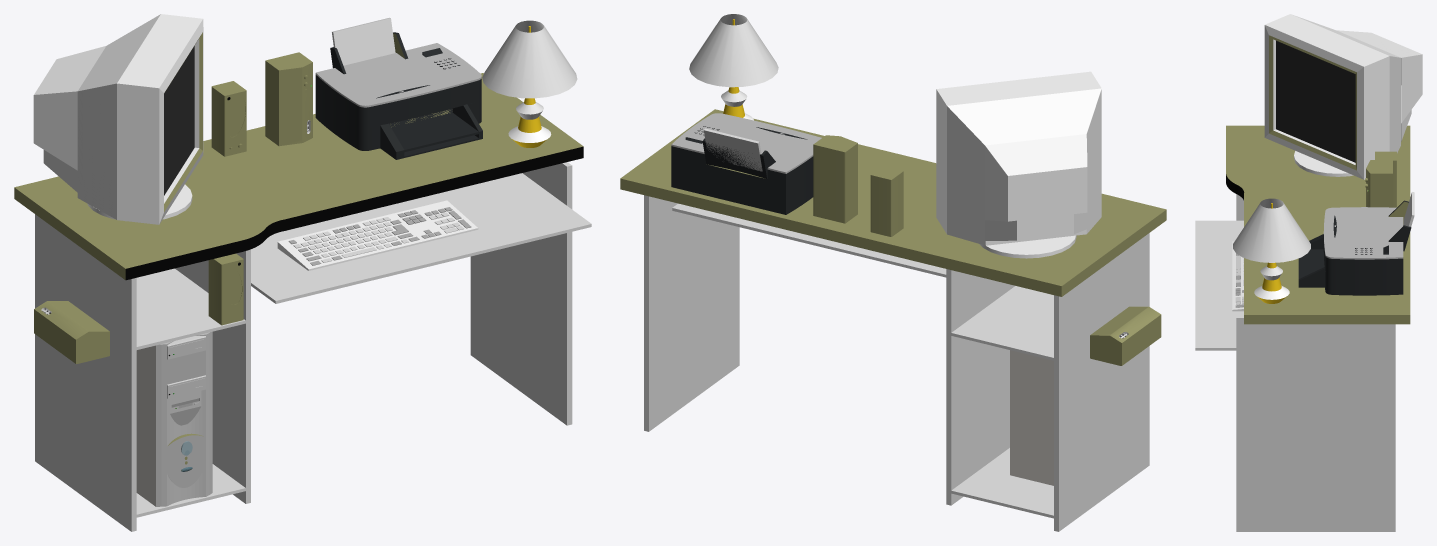
The picture shows the model from 3 angles, left to right: view 1: azimuth 30°, elevation 25°; view 2: azimuth 150°, elevation 25°; view 3: azimuth 270°, elevation 25°; orthographic projection. The views are drawn at different scales.
Parts seen in each view (by area): view 1: Group_007, Group_024, Group_008, Group_003, Group_006, Group_019, Group_009, Group_002, Group_016, Group_004, Group_013, Group_030 (+7 smaller); view 2: Group_024, Group_007, Group_008, Group_003, Group_002, Group_019, Group_009, Group_004, Group_016, Group_030, Group_005, Group_027 (+5 smaller); view 3: Group_003, Group_024, Group_007, Group_019, Group_006, Group_016, Group_030, Group_025, Group_014, Group_013, Group_021, Group_001 (+1 smaller).
Boxes of the visible parts, x1,y1,x2,y2 form: Group_007: [14, 73, 583, 280]; Group_024: [33, 14, 203, 224]; Group_008: [35, 214, 136, 531]; Group_003: [470, 162, 572, 425]; Group_006: [251, 173, 591, 303]; Group_019: [315, 43, 482, 159]; Group_009: [136, 331, 212, 506]; Group_002: [175, 249, 250, 503]; Group_016: [482, 20, 577, 98]; Group_004: [136, 268, 245, 349]; Group_013: [277, 200, 478, 270]; Group_030: [265, 52, 312, 146]; Group_024: [936, 71, 1101, 245]; Group_007: [620, 109, 1166, 296]; Group_008: [1054, 233, 1149, 531]; Group_003: [644, 195, 739, 431]; Group_002: [946, 269, 1015, 505]; Group_019: [671, 113, 821, 214]; Group_009: [1010, 350, 1053, 485]; Group_004: [951, 286, 1053, 360]; Group_016: [689, 14, 778, 87]; Group_030: [813, 135, 857, 223]; Group_005: [951, 448, 1053, 518]; Group_027: [1090, 306, 1161, 365]; Group_003: [1236, 315, 1395, 531]; Group_024: [1264, 14, 1422, 179]; Group_007: [1226, 125, 1410, 324]; Group_019: [1298, 207, 1403, 295]; Group_006: [1195, 220, 1243, 350]; Group_016: [1233, 198, 1310, 262]; Group_030: [1366, 160, 1392, 207]; Group_025: [1294, 151, 1353, 176]; Group_014: [1254, 203, 1289, 303]; Group_013: [1232, 241, 1243, 311]; Group_021: [1388, 200, 1411, 251]; Group_001: [1375, 151, 1396, 207].
Bounding box in the file's own units: 1525 × 1236 × 733.
